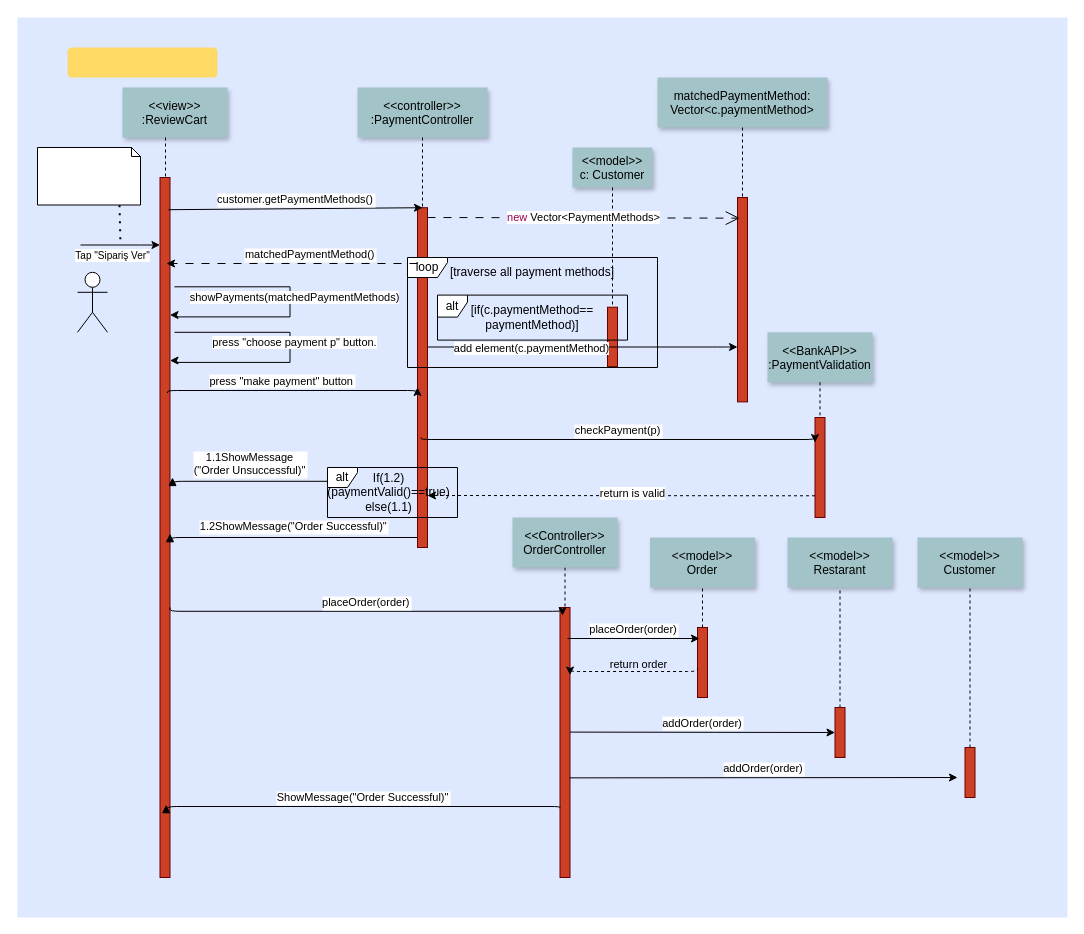
Image size: 1084x934. Some labels were removed from this diagram. Each missing label, with the centre of its shape:
"create an order" belongs at point (142, 62).
"Customer" belongs at point (92, 301).
"Restaurant , List<Menu> , List<OrderItem>" belongs at point (88, 175).
